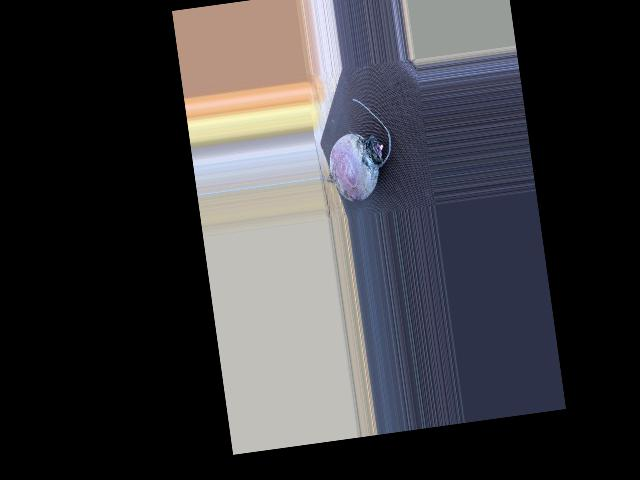beet: (309, 94, 399, 206)
